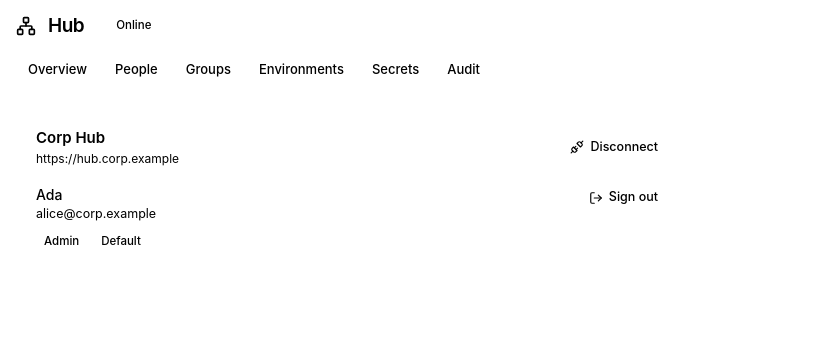
Test: HubPage › verifies the audit chain
This screenshot has width=824, height=359.
Step 1. Click the tab "Audit" → x=464, y=70, box [435,52,492,88]
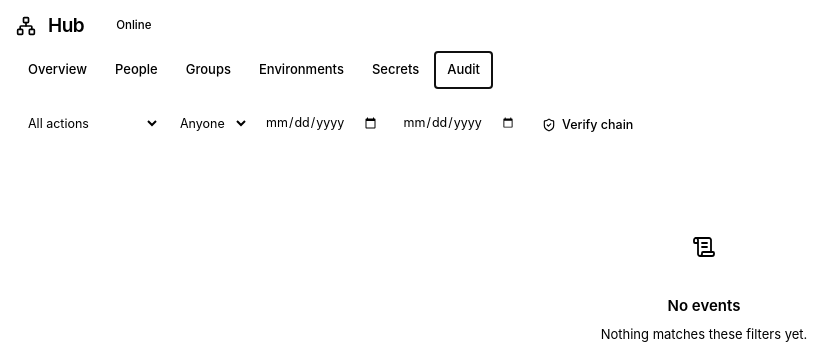
Step 2. Click the button "Verify chain" → x=588, y=125, box [532,111,643,139]
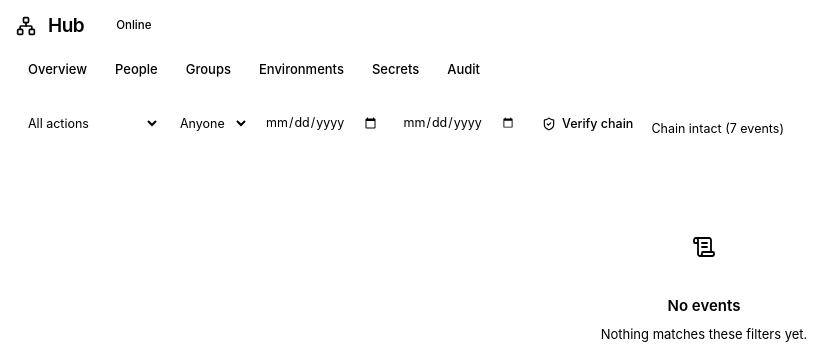
expect the text "Chain intact (7 events)" is shown: met, box [651,120,784,139]
